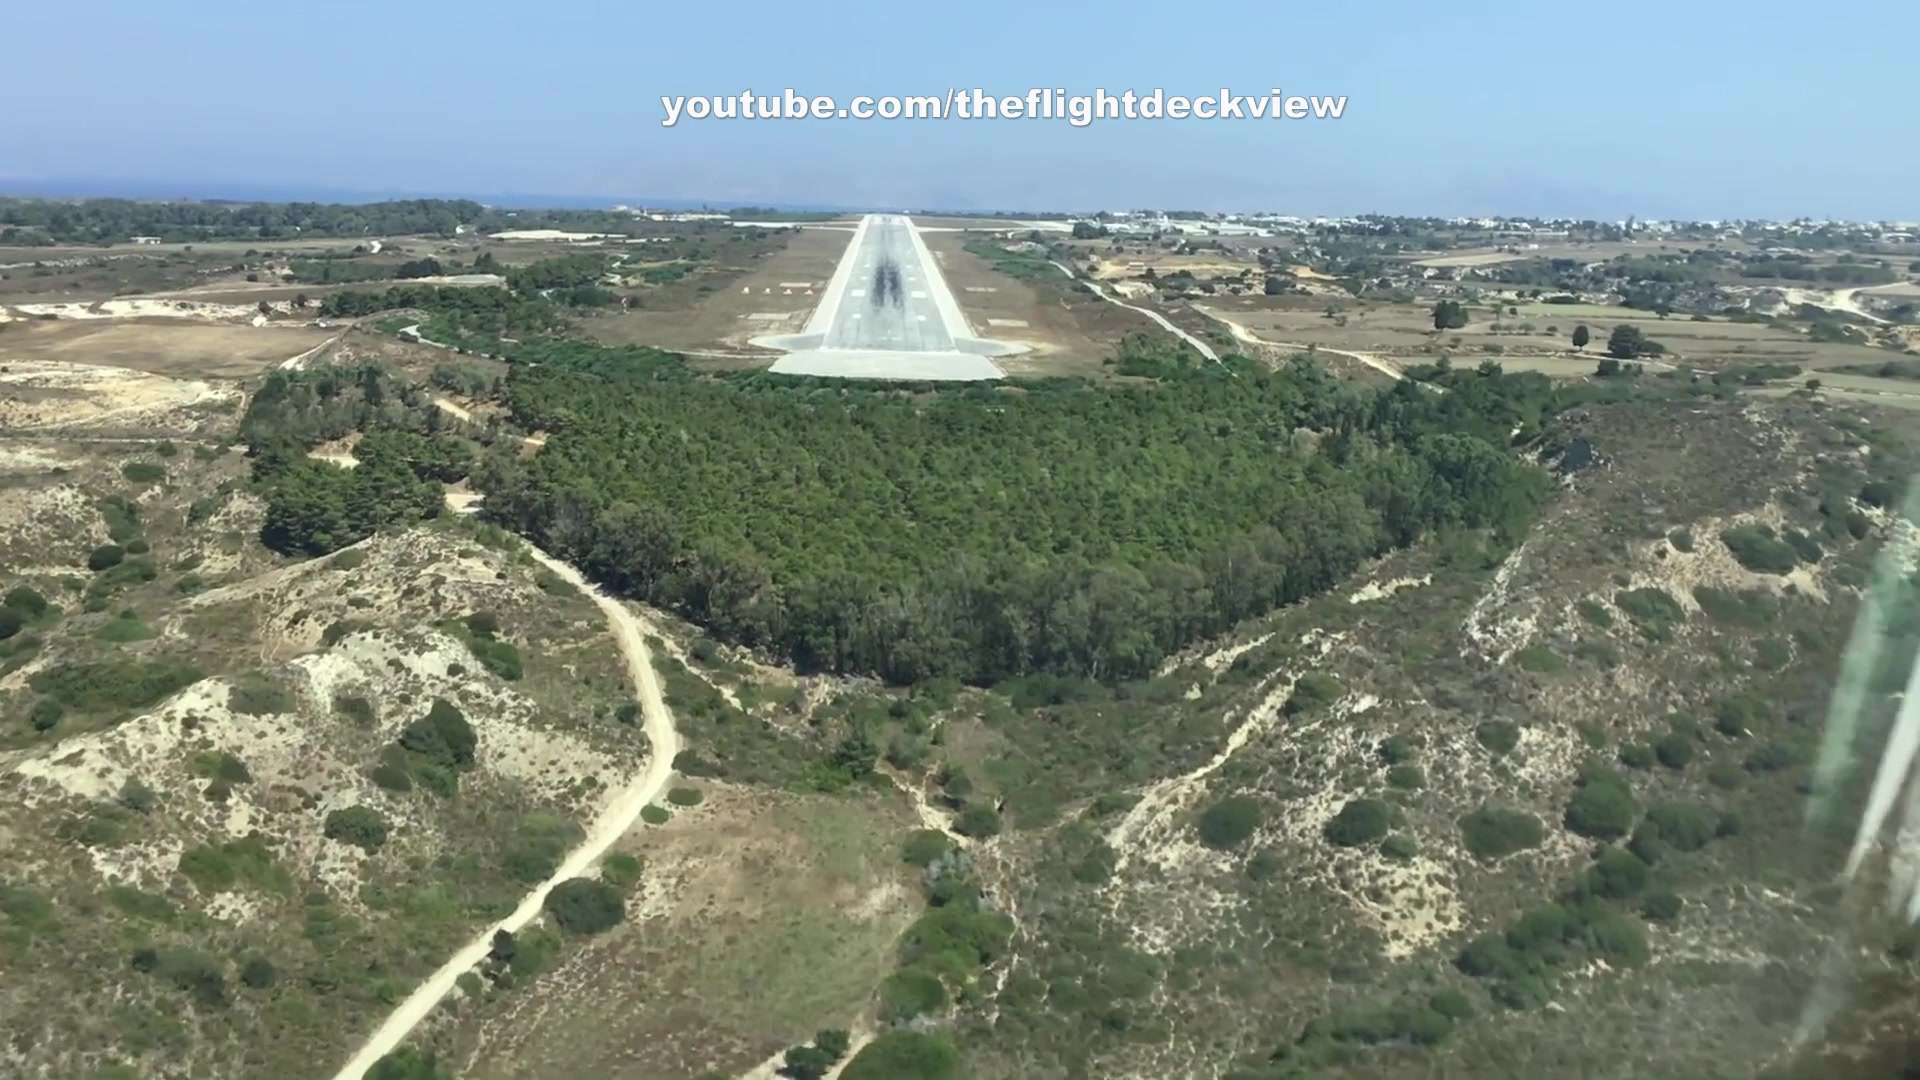runway: (815, 208, 959, 359)
